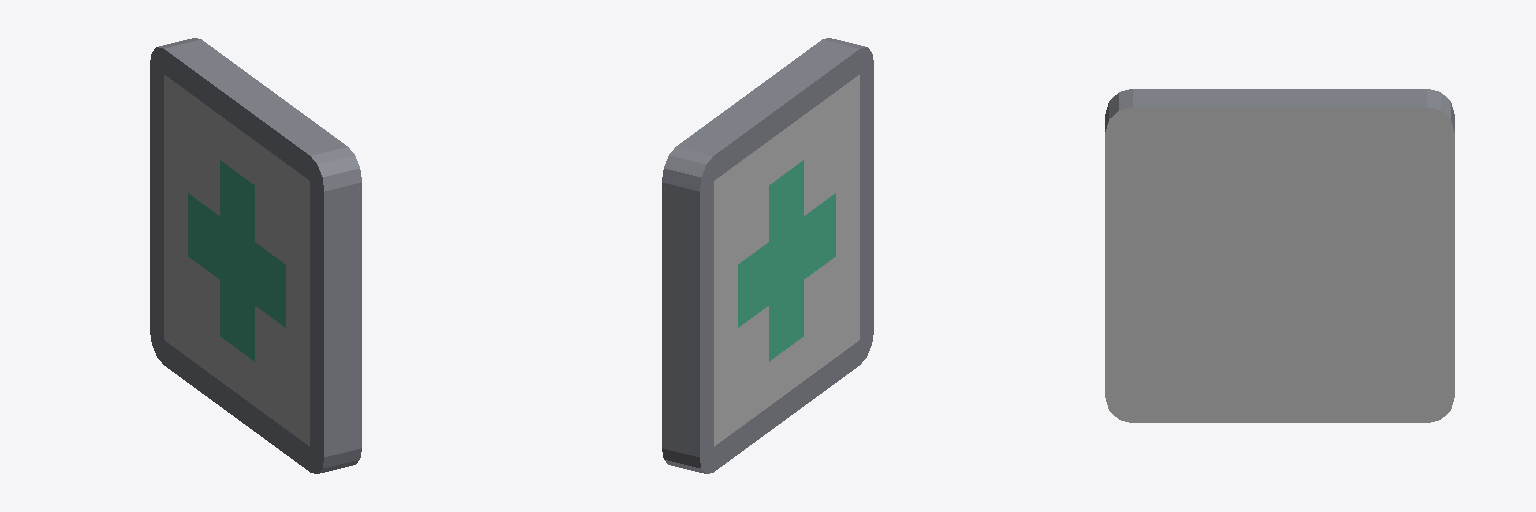
File: sign_hospital.obj
The picture shows the model from 3 angles: view 1: azimuth 30°, elevation 25°; view 2: azimuth 150°, elevation 25°; view 3: azimuth 270°, elevation 25°; orthographic projection.
Visible parts, largest first — view 1: sign_hospital; view 2: sign_hospital; view 3: sign_hospital.
Boxes of the visible parts, box(x1,y1,x2,y2) form: sign_hospital: box(150, 38, 361, 473); sign_hospital: box(662, 38, 873, 473); sign_hospital: box(1105, 89, 1454, 422).
Size of the model in its own units: 0.05 by 0.4 by 0.4.